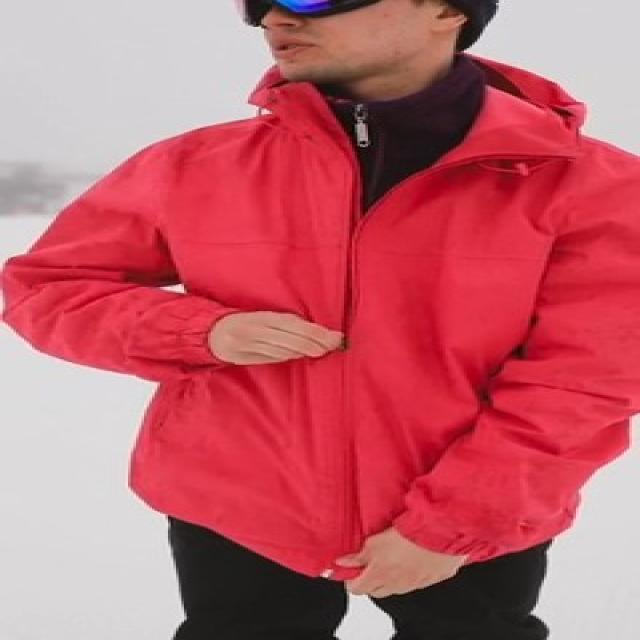Jacket_Wearer: (0, 82, 640, 566)
Person: (0, 0, 640, 640)
